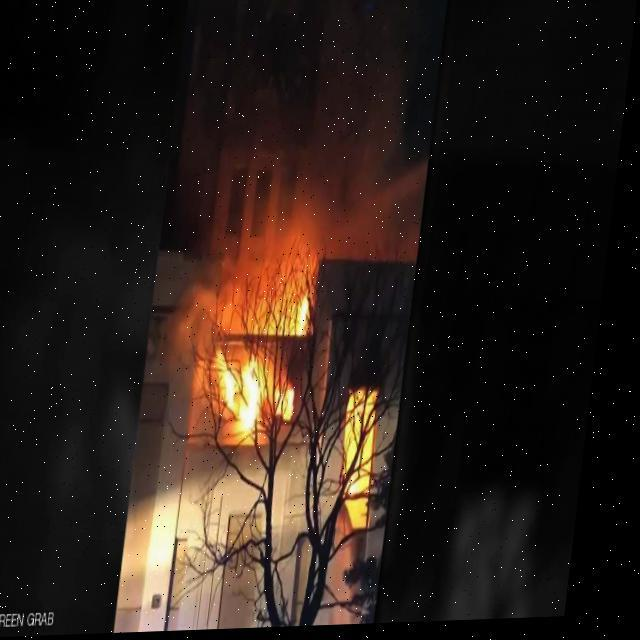Fire: (210, 233, 327, 450), (344, 395, 394, 542)
